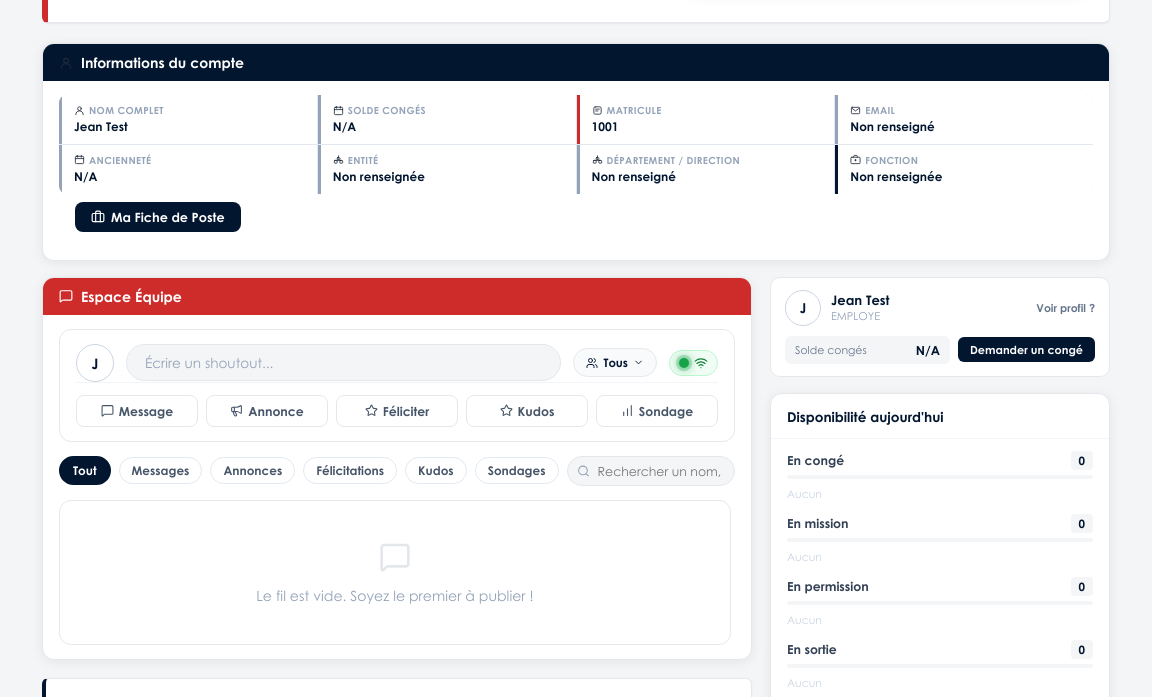
Test: Home — Demander un congé modal › Annuler button closes the modal
This screenshot has width=1152, height=697.
(page scrolled)
What coordinates should you click on to do the following:
click the button "Demander un congé"
I would click on:
 (1026, 350)
Its box is [958, 337, 1095, 362].
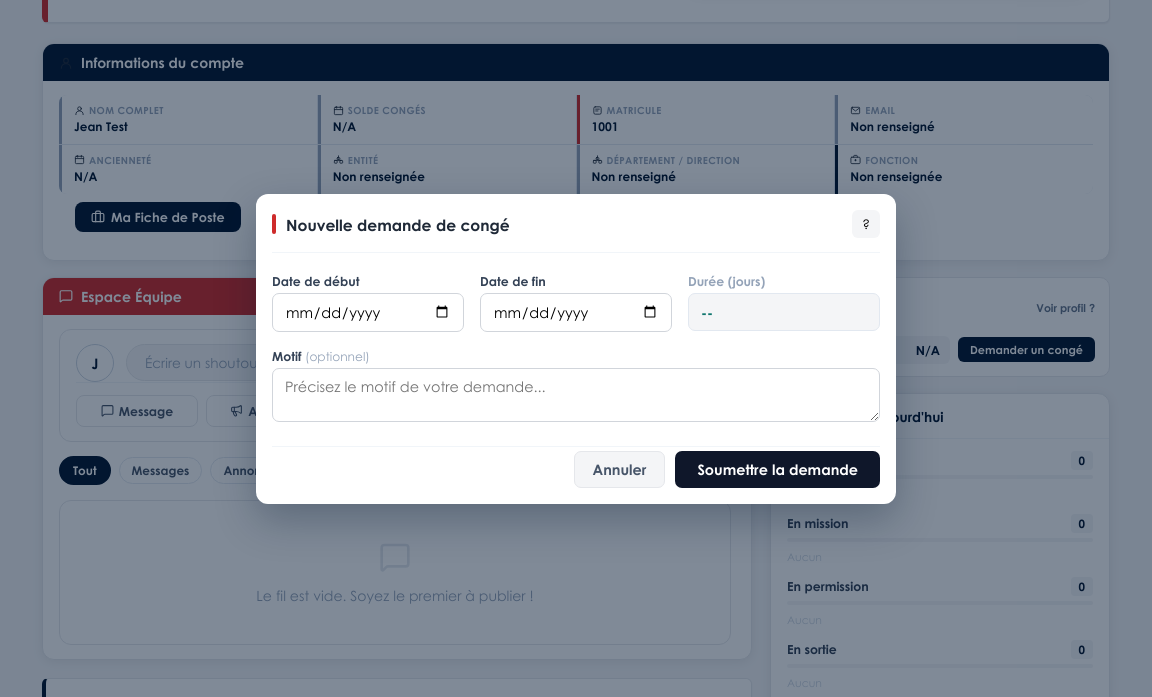
Result: the text "Nouvelle demande de congé" is shown at [286, 214, 510, 234]
What coordinates should you click on to do the following:
click the button "Annuler"
I would click on:
 (620, 470)
Its box is [574, 451, 665, 488].
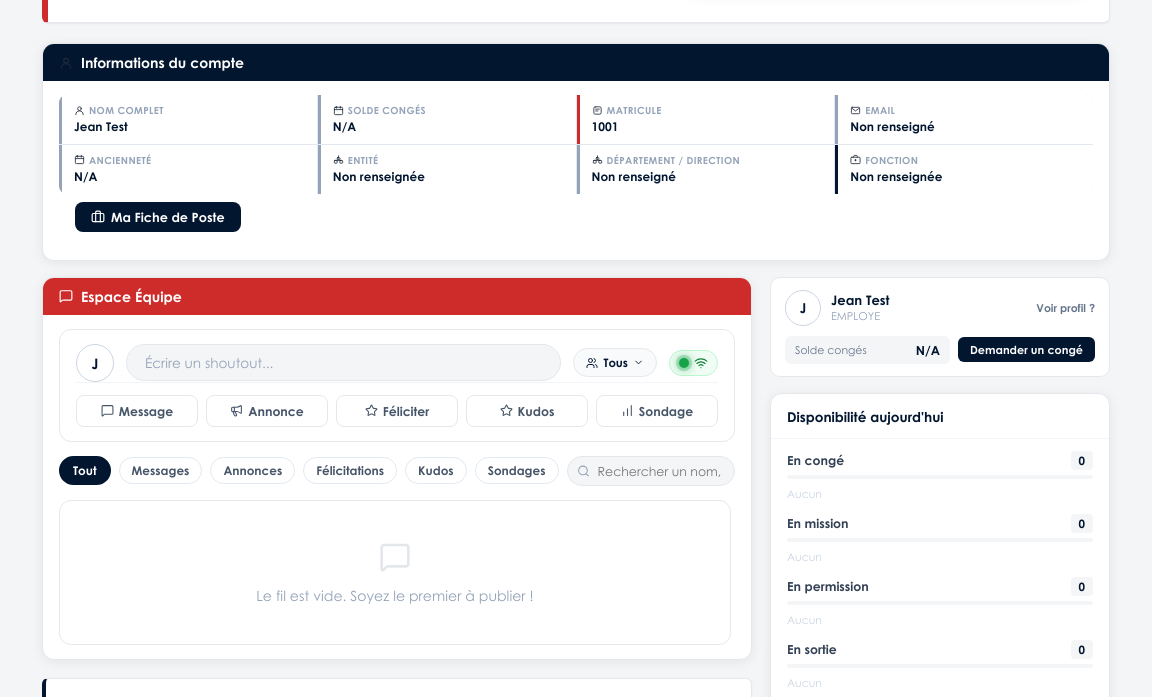
Result: the text "Nouvelle demande de congé" is gone
